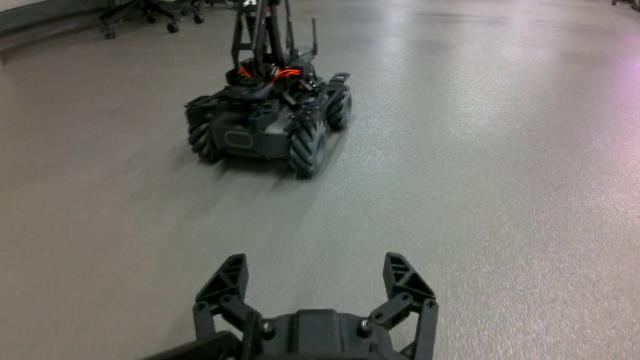robot: (184, 0, 353, 179)
